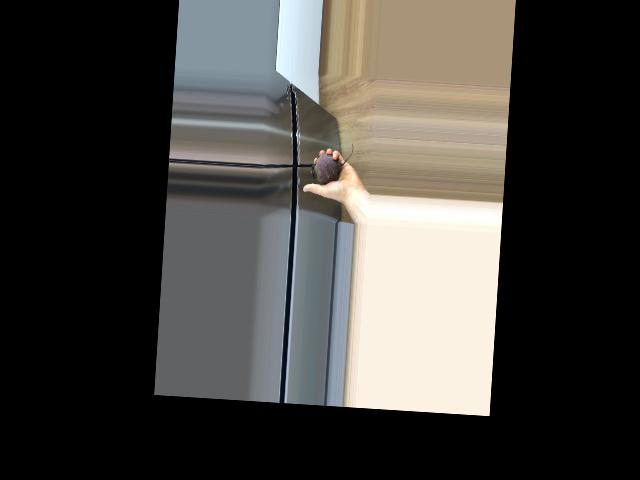beet: (310, 139, 353, 186)
